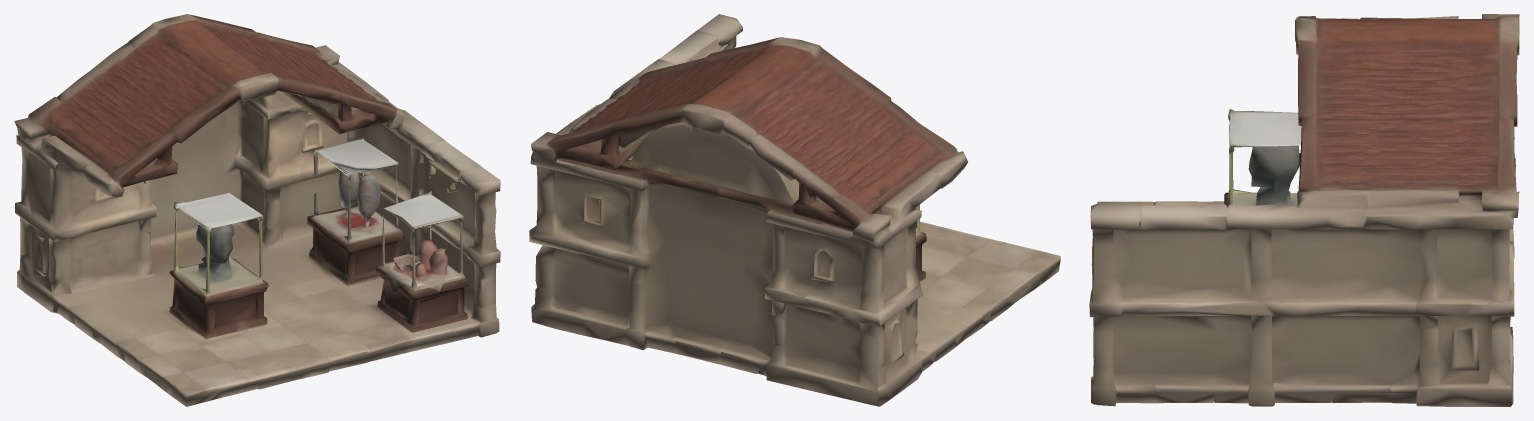
Rendered from museum_interior.glb.
3 views of the same model, side by side, from view 1: azimuth 30°, elevation 25°; view 2: azimuth 150°, elevation 25°; view 3: azimuth 270°, elevation 25° (orthographic). The views are drawn at different scales.
Parts seen in each view (by area): view 1: tripo_node_3717f2b5-78d1-4a95-b072-e59edb9672dd; view 2: tripo_node_3717f2b5-78d1-4a95-b072-e59edb9672dd; view 3: tripo_node_3717f2b5-78d1-4a95-b072-e59edb9672dd.
Part boxes in pixels (left/top/right/bottom): tripo_node_3717f2b5-78d1-4a95-b072-e59edb9672dd: left=14, top=14, right=500, bottom=406; tripo_node_3717f2b5-78d1-4a95-b072-e59edb9672dd: left=529, top=14, right=1060, bottom=406; tripo_node_3717f2b5-78d1-4a95-b072-e59edb9672dd: left=1089, top=14, right=1519, bottom=406.
Bounding box in the file's own units: 1 × 0.6936 × 0.9475.
1 material, 1 textured.
